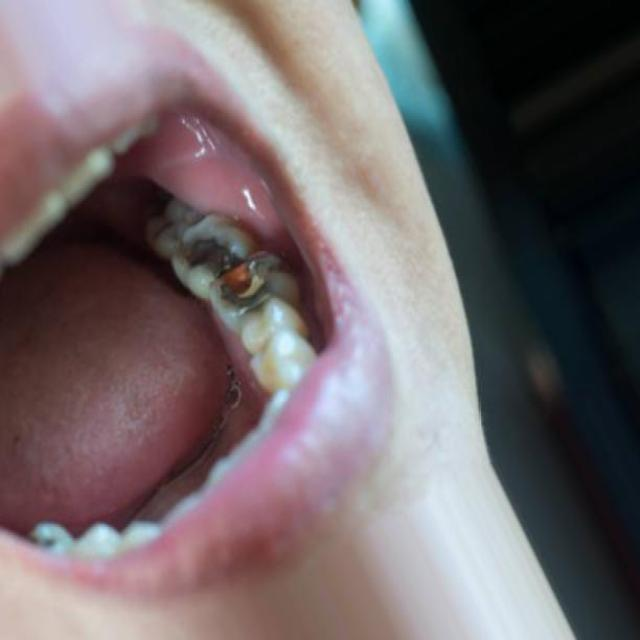caries: (211, 249, 283, 318), (177, 219, 237, 287)
